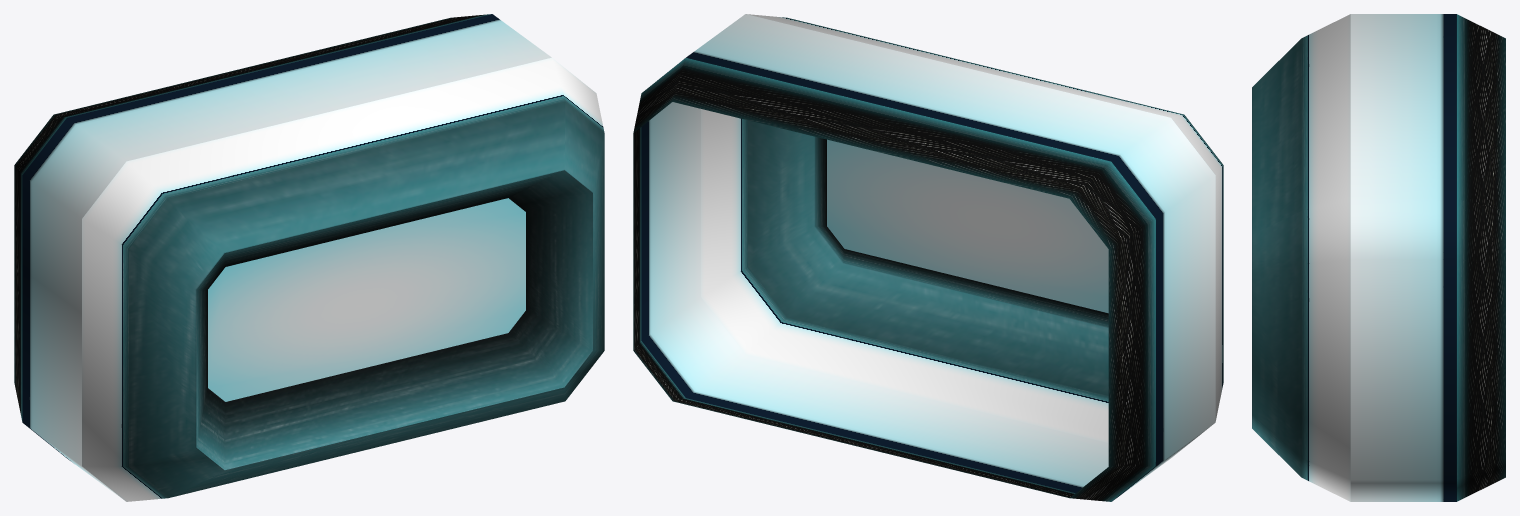
File: M_Props_PointBlock_01.FBX
3 renders of one model, left to right at view 1: azimuth 30°, elevation 25°; view 2: azimuth 150°, elevation 25°; view 3: azimuth 270°, elevation 25°, orthographic. The views are drawn at different scales.
Visible parts, largest first — view 1: M_Props_PointBlock_01; view 2: M_Props_PointBlock_01; view 3: M_Props_PointBlock_01.
Boxes of the visible parts, x1,y1,x2,y2 form: M_Props_PointBlock_01: (14,14,604,501); M_Props_PointBlock_01: (633,14,1223,501); M_Props_PointBlock_01: (1252,14,1505,501).
Size of the model in its own units: 4.83 by 3.05 by 2.32.
